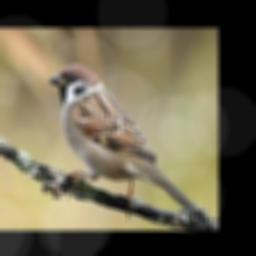Sparrow: (49, 64, 194, 216)
